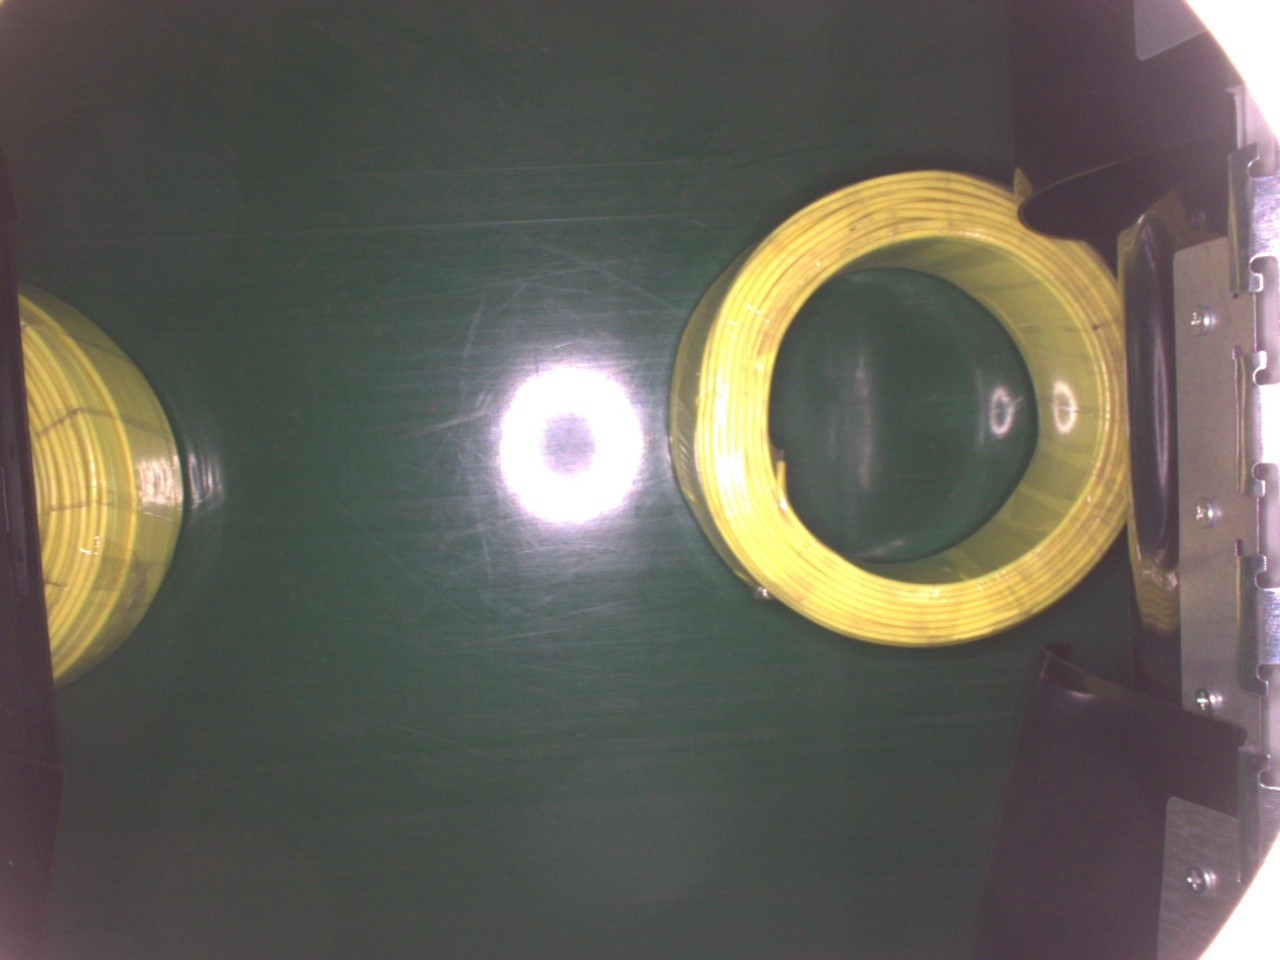yellow: (665, 168, 1128, 646), (15, 283, 189, 694)
